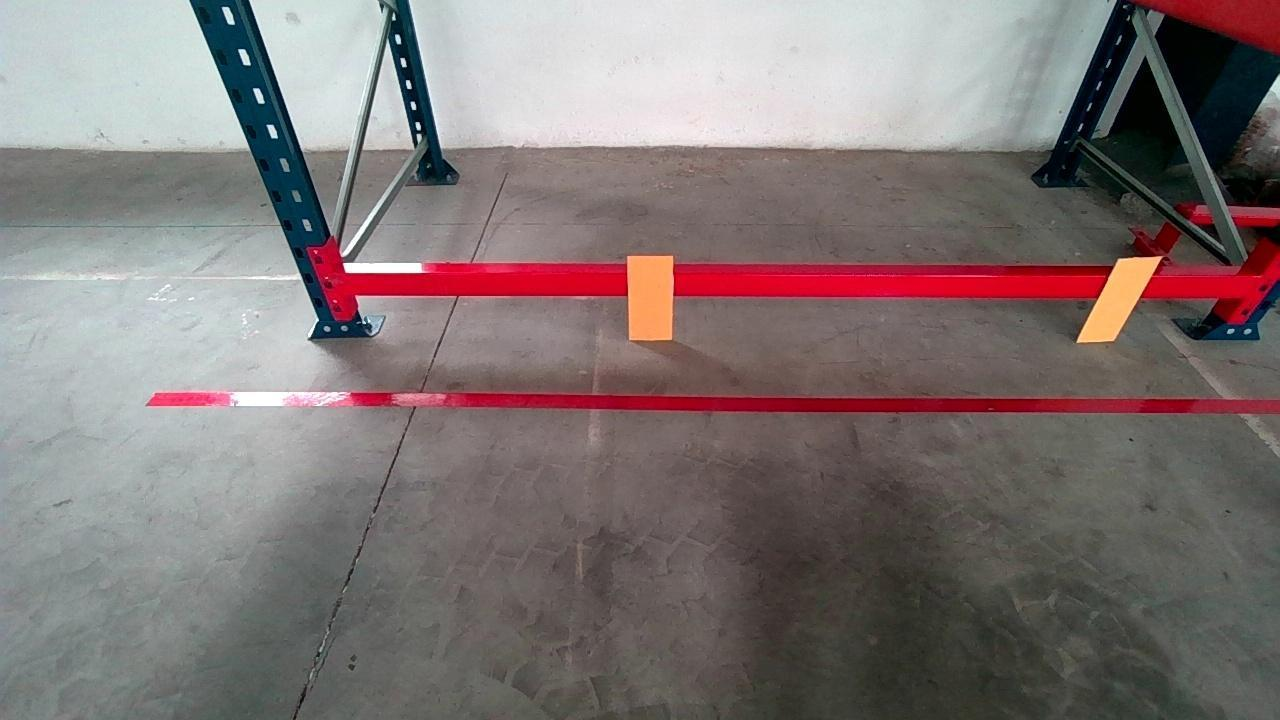h_rack: (344, 271, 1257, 298)
orange_strip: (1076, 257, 1160, 341), (628, 255, 674, 339)
red_line: (146, 394, 1280, 412)
